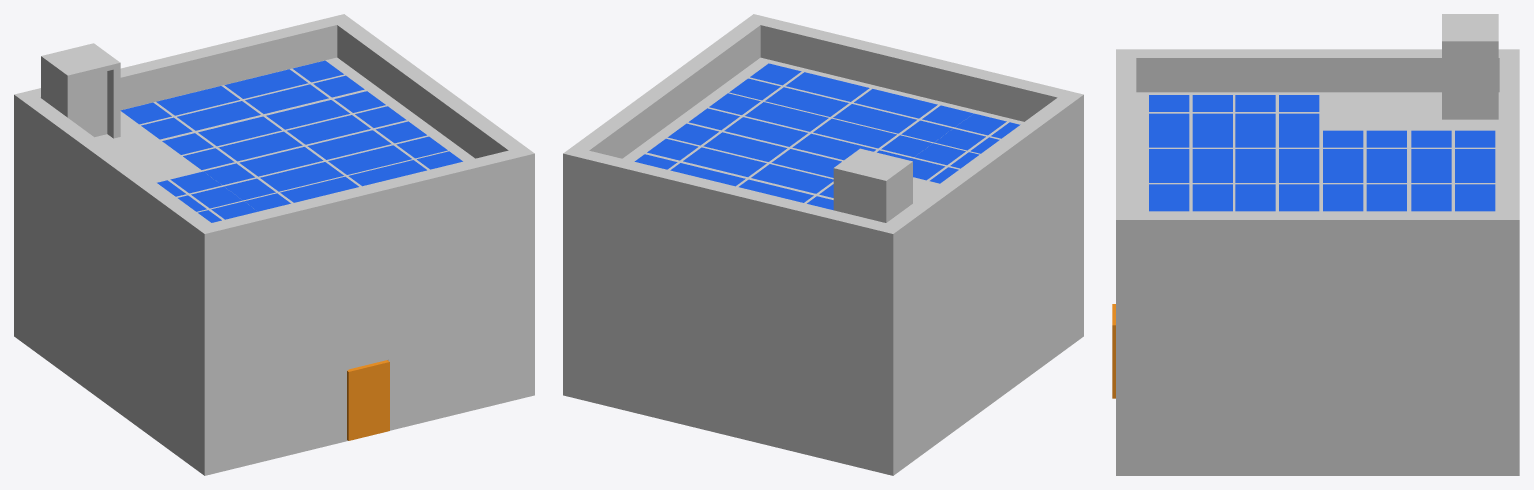
The model's file is sm_building_entry_short.gltf.
3 views of the same model, side by side, from view 1: azimuth 30°, elevation 25°; view 2: azimuth 150°, elevation 25°; view 3: azimuth 270°, elevation 25° (orthographic). The views are drawn at different scales.
Parts seen in each view (by area): view 1: prefab_entry_short2, MeshInstance3D2, GridSpace20, GridSpace26, GridSpace48, GridSpace5, GridSpace8, GridSpace33, GridSpace34, GridSpace54, GridSpace7, GridSpace10 (+28 smaller); view 2: prefab_entry_short2, GridSpace32, GridSpace4, GridSpace5, GridSpace6, GridSpace8, GridSpace11, GridSpace16, GridSpace20, GridSpace29, GridSpace36, GridSpace (+23 smaller); view 3: prefab_entry_short2, GridSpace5, GridSpace7, GridSpace14, GridSpace20, GridSpace26, GridSpace, GridSpace3, GridSpace11, GridSpace16, GridSpace23, GridSpace29 (+37 smaller).
Part boxes in pixels (box(x1,y1,x2,y2)): prefab_entry_short2: box(14, 14, 534, 475); MeshInstance3D2: box(347, 360, 389, 440); GridSpace20: box(224, 178, 275, 200); GridSpace26: box(141, 117, 192, 139); GridSpace48: box(203, 163, 254, 185); GridSpace5: box(191, 186, 242, 208); GridSpace8: box(396, 136, 447, 158); GridSpace33: box(170, 171, 221, 193); GridSpace34: box(239, 155, 290, 176); GridSpace54: box(120, 102, 171, 124); GridSpace7: box(328, 153, 379, 174); GridSpace10: box(218, 139, 269, 161); prefab_entry_short2: box(563, 14, 1083, 475); GridSpace32: box(729, 78, 780, 100); GridSpace4: box(750, 63, 801, 85); GridSpace5: box(914, 143, 965, 165); GridSpace6: box(845, 126, 896, 148); GridSpace8: box(709, 93, 760, 114); GridSpace11: box(736, 140, 787, 161); GridSpace16: box(922, 105, 973, 127); GridSpace20: box(881, 135, 932, 156); GridSpace29: box(934, 128, 985, 150); GridSpace36: box(688, 108, 739, 130); GridSpace: box(955, 113, 1006, 135); prefab_entry_short2: box(1116, 14, 1519, 475); GridSpace5: box(1235, 113, 1275, 130); GridSpace7: box(1235, 184, 1275, 201); GridSpace14: box(1411, 184, 1451, 201); GridSpace20: box(1235, 130, 1275, 147); GridSpace26: box(1411, 130, 1451, 147); GridSpace: box(1149, 113, 1189, 130); GridSpace3: box(1149, 184, 1189, 201); GridSpace11: box(1323, 184, 1363, 201); GridSpace16: box(1149, 130, 1189, 147); GridSpace23: box(1323, 130, 1363, 147); GridSpace29: box(1192, 113, 1232, 130).
Size of the model in its own units: 10 by 8.21 by 10.1.
